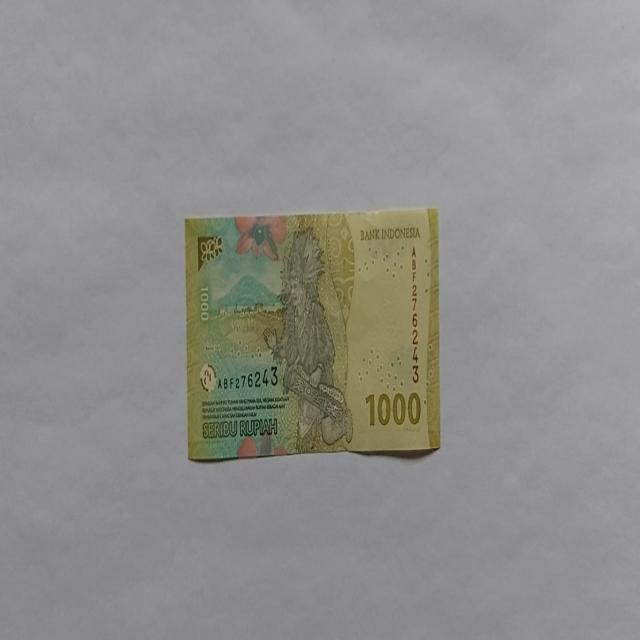seribu rupiah kertas: (184, 206, 441, 462)
